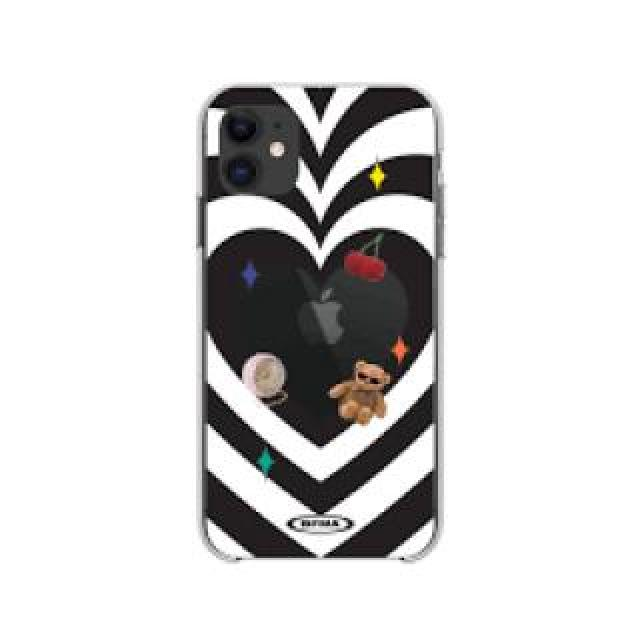smart phone: (180, 43, 478, 587)
